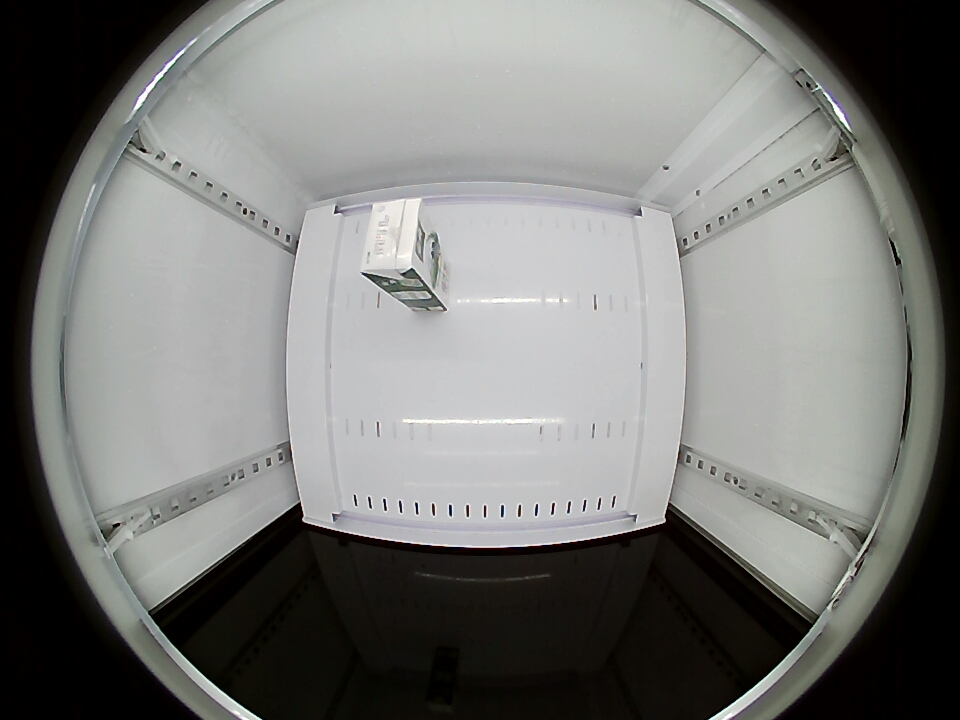jindian: (359, 198, 434, 292)
